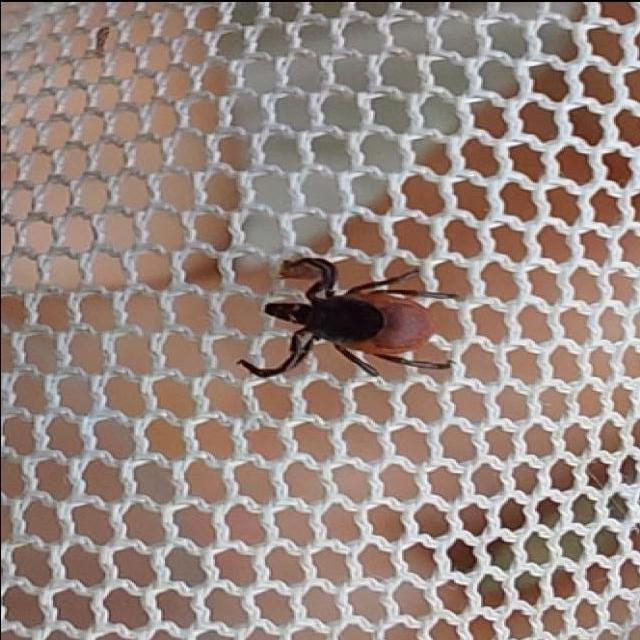Ixodes Ricinus-F: (237, 255, 457, 376)
